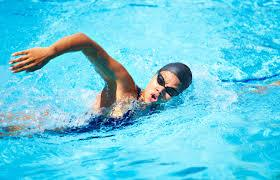Swimming: (2, 9, 235, 135)
